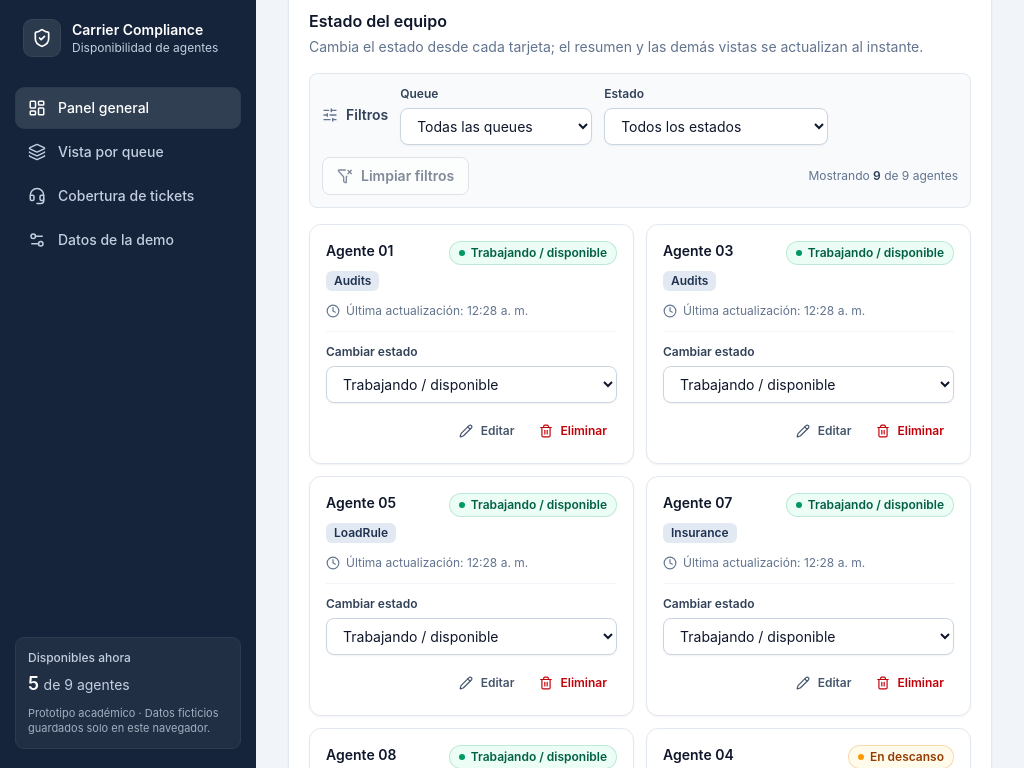
Panel de disponibilidad › cambia el estado y actualiza los contadores y el almacenamiento
(page scrolled)
Check: the heading "Estado del equipo" is shown, box [309,11,447,31]
Select "En almuerzo" in the dropdown labelled "Cambiar estado" below "Agente 01" at (472, 384), box [326,366,617,403]
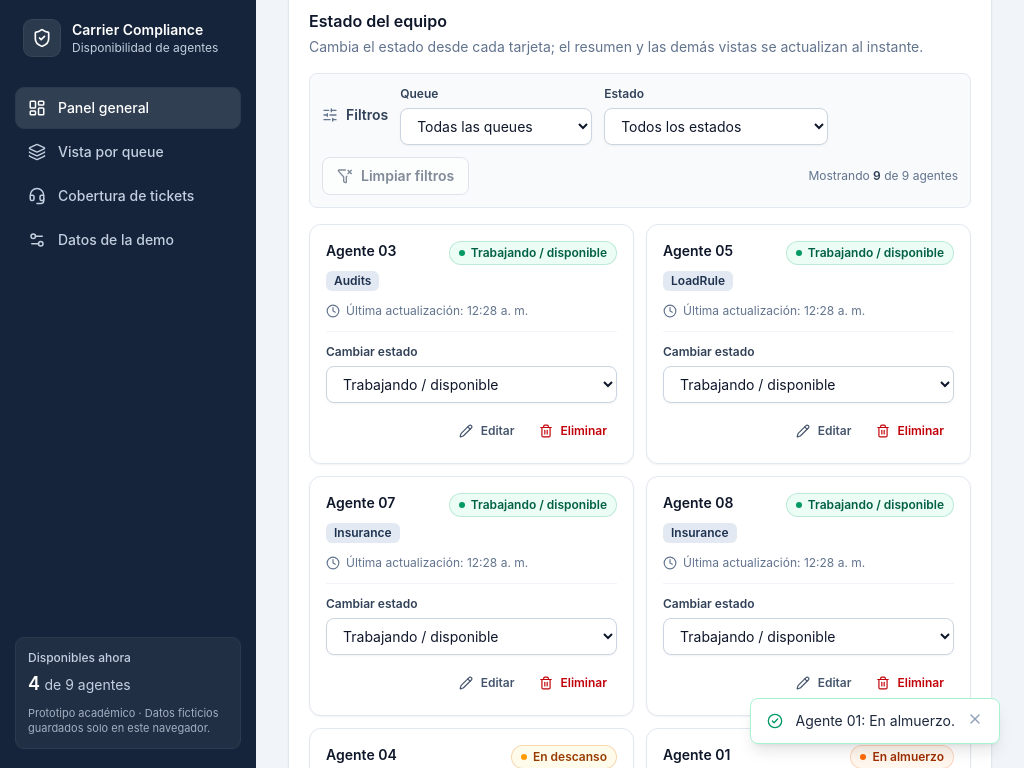
Check: the text "En almuerzo" is shown, box [850,745,954,767]
